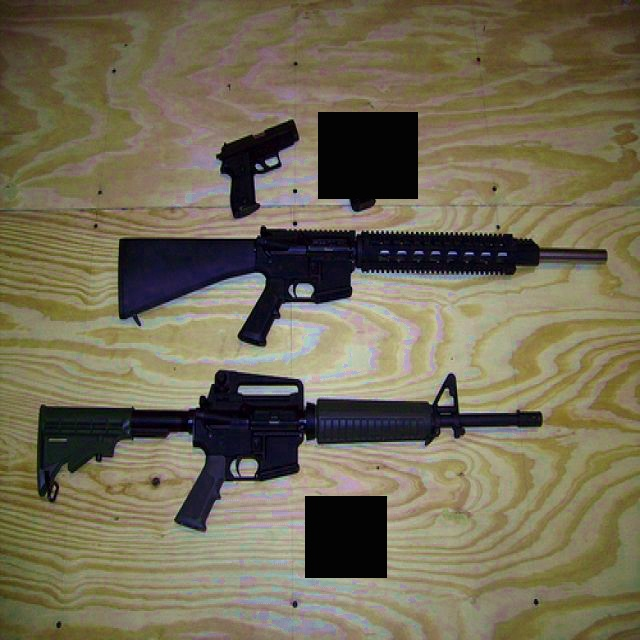gun: (21, 356, 577, 534)
